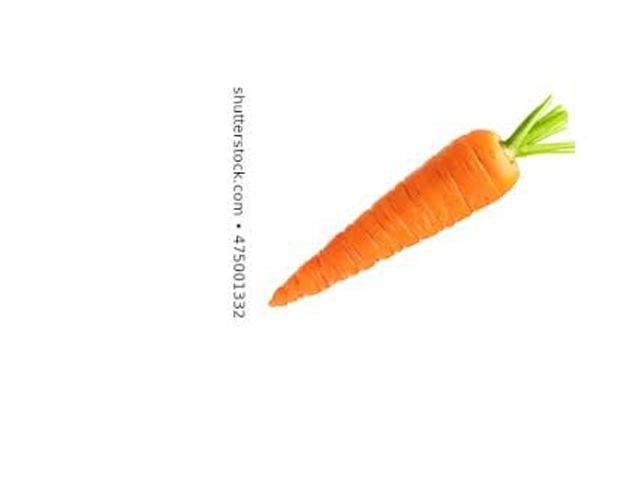carrot: (260, 100, 536, 321)
